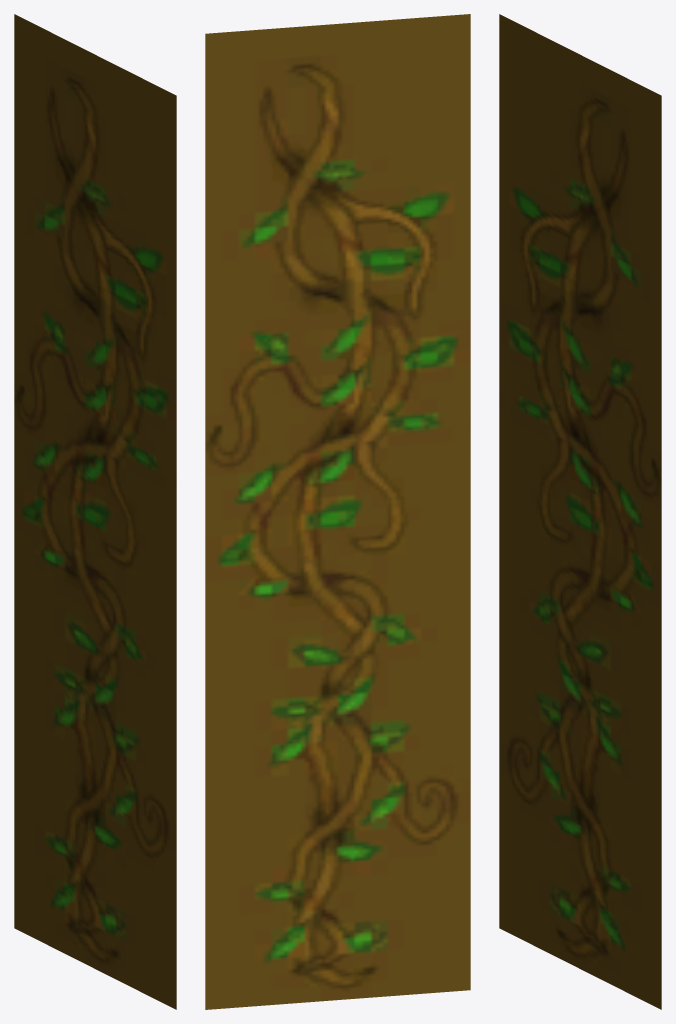
The model's file is EKH_GROTTO_PS_GR_PLANE270.fbx.
The picture shows the model from 3 angles, left to right: view 1: azimuth 90°, elevation 25°; view 2: azimuth 150°, elevation 25°; view 3: azimuth 270°, elevation 25°; orthographic projection. The views are drawn at different scales.
Parts seen in each view (by area): view 1: EKH_GROTTO_PS_GR_PLANE270; view 2: EKH_GROTTO_PS_GR_PLANE270; view 3: EKH_GROTTO_PS_GR_PLANE270.
Boxes of the visible parts, box(x1,y1,x2,y2) form: EKH_GROTTO_PS_GR_PLANE270: box(14, 14, 176, 1009); EKH_GROTTO_PS_GR_PLANE270: box(205, 14, 470, 1009); EKH_GROTTO_PS_GR_PLANE270: box(499, 14, 661, 1009).
Size of the model in its own units: 5284 by 27592 by 4434.
Materials: 1 (1 with a texture image).
